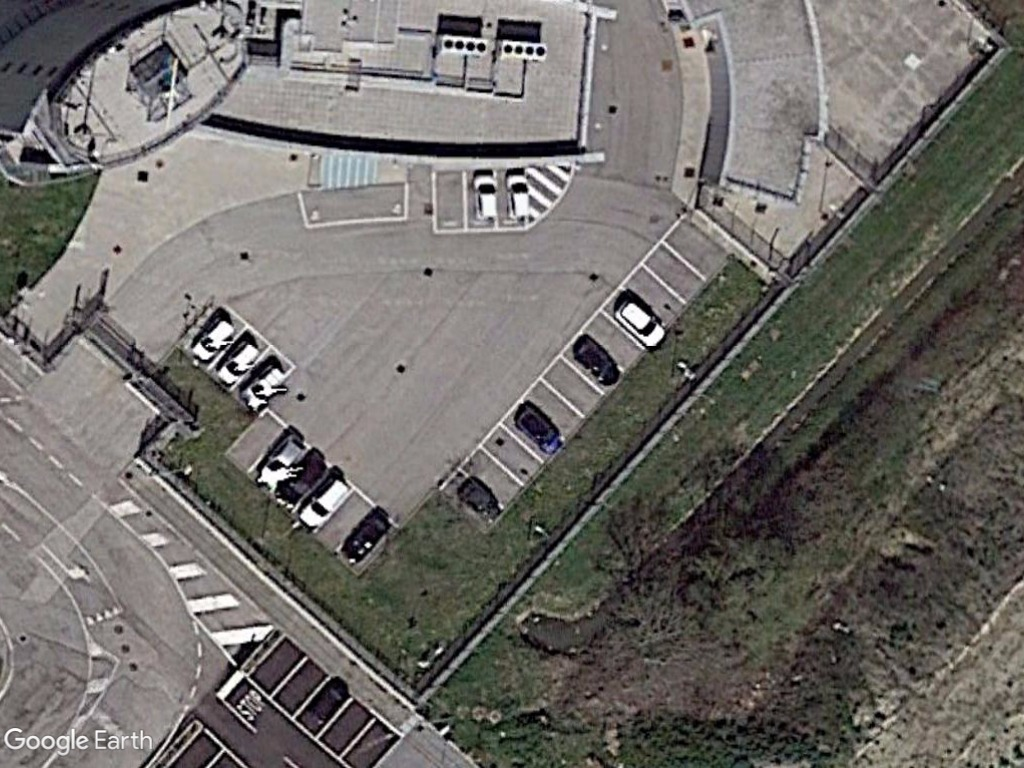car: (294, 472, 354, 535), (254, 432, 313, 487), (611, 297, 669, 351), (233, 364, 293, 414), (214, 336, 265, 392), (189, 316, 240, 367), (471, 168, 504, 225), (503, 169, 536, 225)
